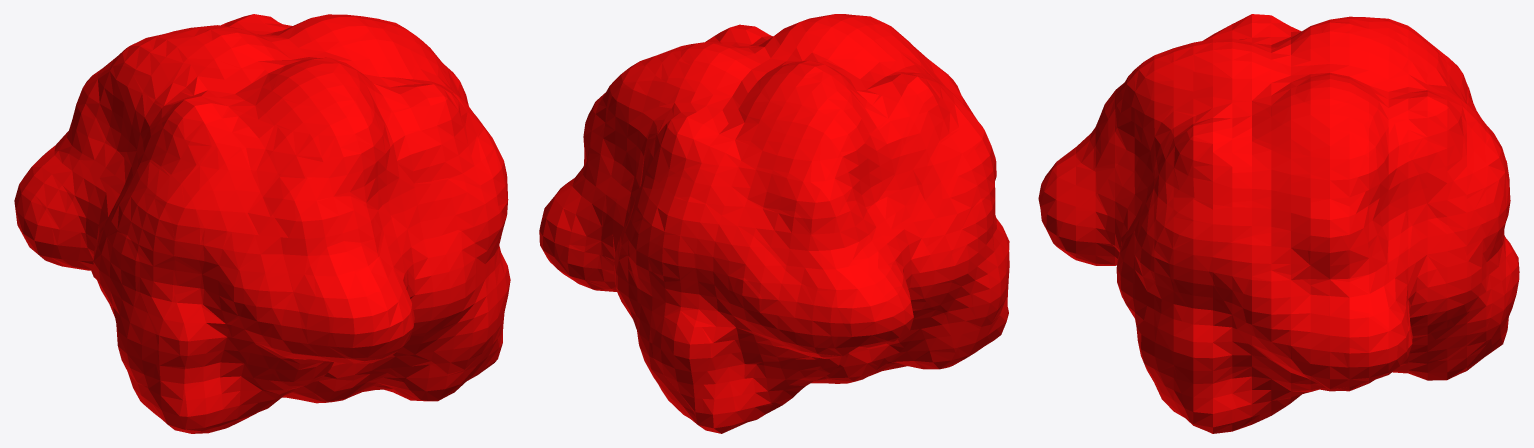
The model's file is ispF_coarse.dae.
3 renders of one model, left to right at view 1: azimuth 30°, elevation 25°; view 2: azimuth 150°, elevation 25°; view 3: azimuth 270°, elevation 25°, orthographic. The views are drawn at different scales.
Parts seen in each view (by area): view 1: ispF; view 2: ispF; view 3: ispF.
Boxes of the visible parts, left/top/right/bottom form: ispF: left=14, top=14, right=510, bottom=433; ispF: left=539, top=14, right=1009, bottom=433; ispF: left=1038, top=14, right=1519, bottom=433.
Size of the model in its own units: 61.36 by 48.98 by 64.21.
